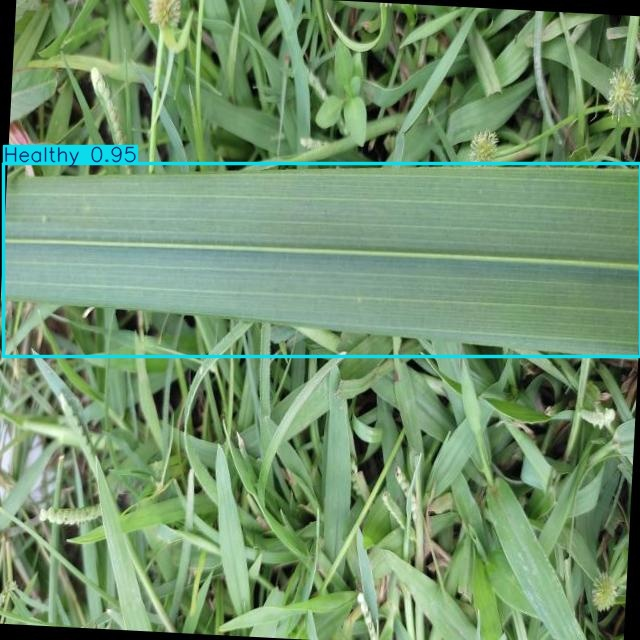Healthy: (3, 163, 640, 357)
